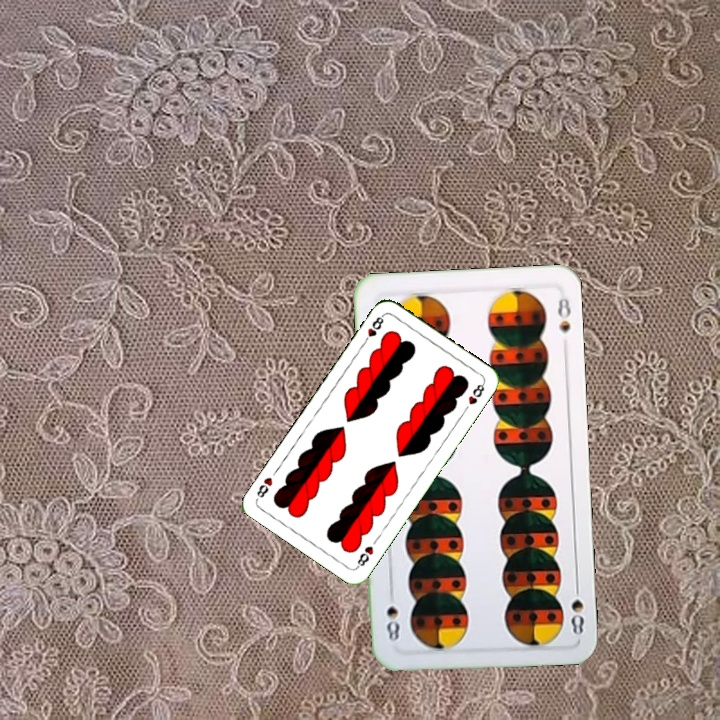H8: (359, 311, 387, 347), (353, 542, 376, 571)
S8: (567, 579, 587, 638)
